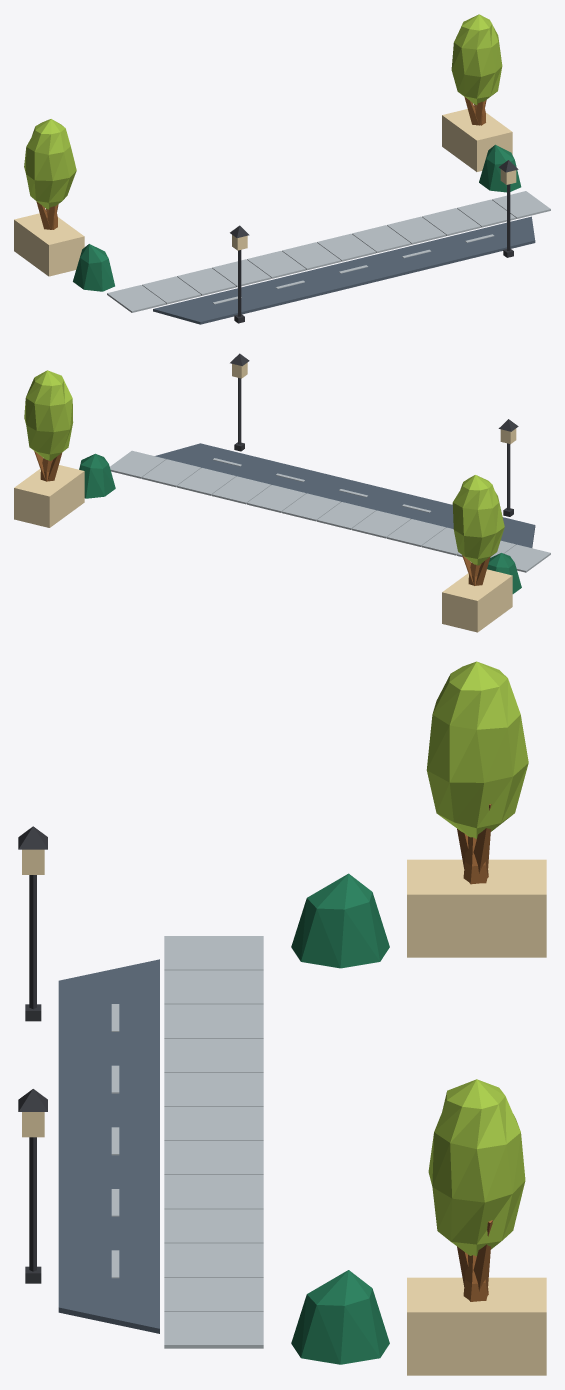
The model's file is decoration.glb.
The picture shows the model from 3 angles, top to bottom: view 1: azimuth 30°, elevation 25°; view 2: azimuth 150°, elevation 25°; view 3: azimuth 270°, elevation 25°; orthographic projection. The views are drawn at different scales.
Visible parts, largest first — view 1: Decor_Manehattan_StreetFurniture; view 2: Decor_Manehattan_StreetFurniture; view 3: Decor_Manehattan_StreetFurniture.
Boxes of the visible parts, x1,y1,x2,y2 form: Decor_Manehattan_StreetFurniture: (14, 14, 550, 324); Decor_Manehattan_StreetFurniture: (14, 353, 550, 632); Decor_Manehattan_StreetFurniture: (18, 661, 546, 1375).
Bounding box in the file's own units: 1.72 × 0.4888 × 0.8333.
